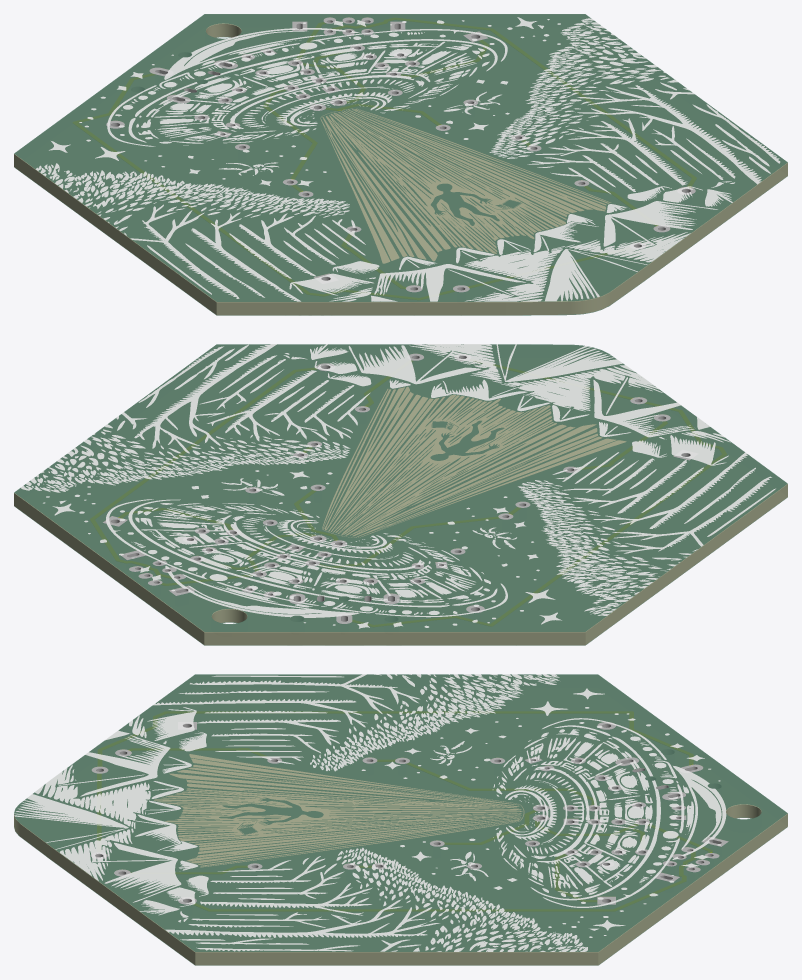
The model's file is emf-explorer-badge.glb.
3 views of the same model, one above another, from view 1: azimuth 30°, elevation 25°; view 2: azimuth 150°, elevation 25°; view 3: azimuth 270°, elevation 25° (orthographic).
Visible parts, largest first — view 1: =>[0:1:1:7], =>[0:1:1:9], =>[0:1:1:5], =>[0:1:1:2]; view 2: =>[0:1:1:7], =>[0:1:1:9], =>[0:1:1:5], =>[0:1:1:2]; view 3: =>[0:1:1:7], =>[0:1:1:9], =>[0:1:1:5], =>[0:1:1:2].
Boxes of the visible parts, box(x1,y1,x2,y2) form: =>[0:1:1:7]: box(14, 14, 787, 315); =>[0:1:1:9]: box(14, 15, 787, 315); =>[0:1:1:5]: box(36, 17, 780, 315); =>[0:1:1:2]: box(73, 17, 696, 299); =>[0:1:1:7]: box(14, 344, 787, 645); =>[0:1:1:9]: box(14, 345, 787, 645); =>[0:1:1:5]: box(20, 344, 775, 645); =>[0:1:1:2]: box(90, 353, 726, 626); =>[0:1:1:7]: box(14, 674, 787, 965); =>[0:1:1:9]: box(14, 675, 787, 965); =>[0:1:1:5]: box(14, 674, 726, 951); =>[0:1:1:2]: box(91, 712, 728, 910).
Size of the model in its own units: 0.07 by 0.00166 by 0.0825.
Materials: 4 (4 with a texture image).
